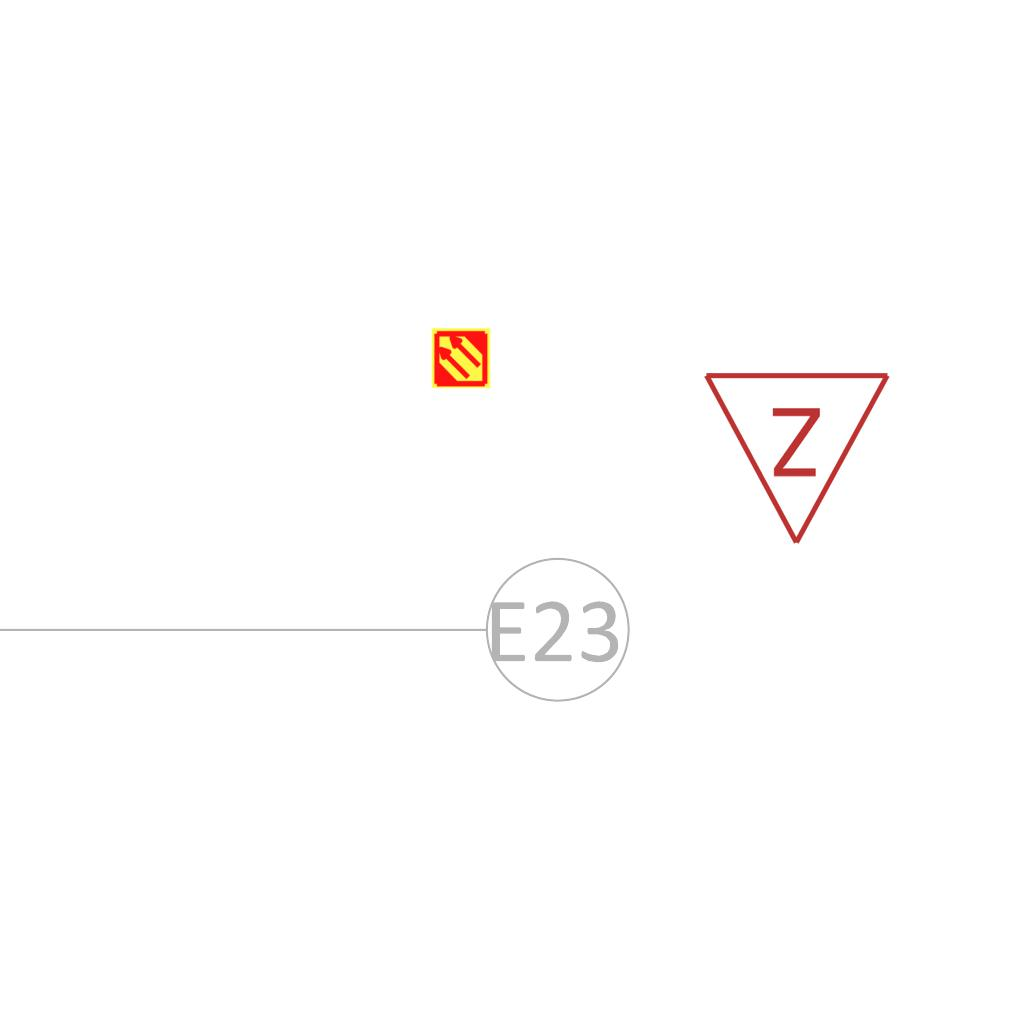ASR_Ansaugrauchmelder: (430, 327, 492, 389)
Zimmersignalleuchte: (701, 358, 897, 558)
